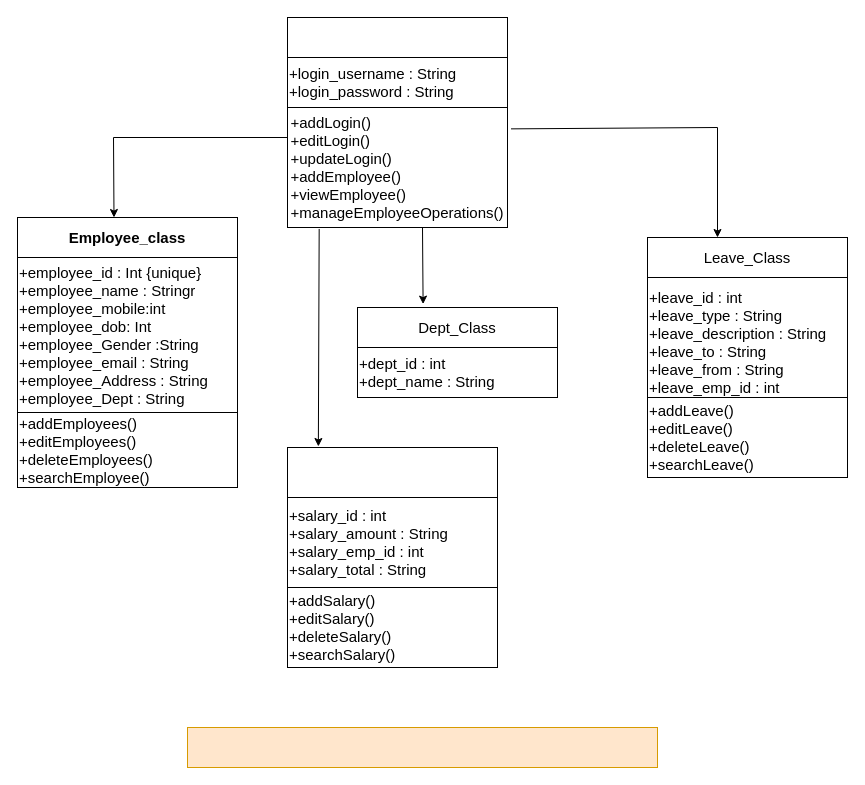
Image size: 865x785. Some labels were removed from this diagram. The shapes that lost their labels are listed below. From the top down, each one's box as (x1, y1, x2, y2) in pixels, then its label:
(286, 16, 508, 58): Admin_class
(286, 446, 498, 508): Salary_class
(186, 726, 658, 768): Class Diagram for employee management system
